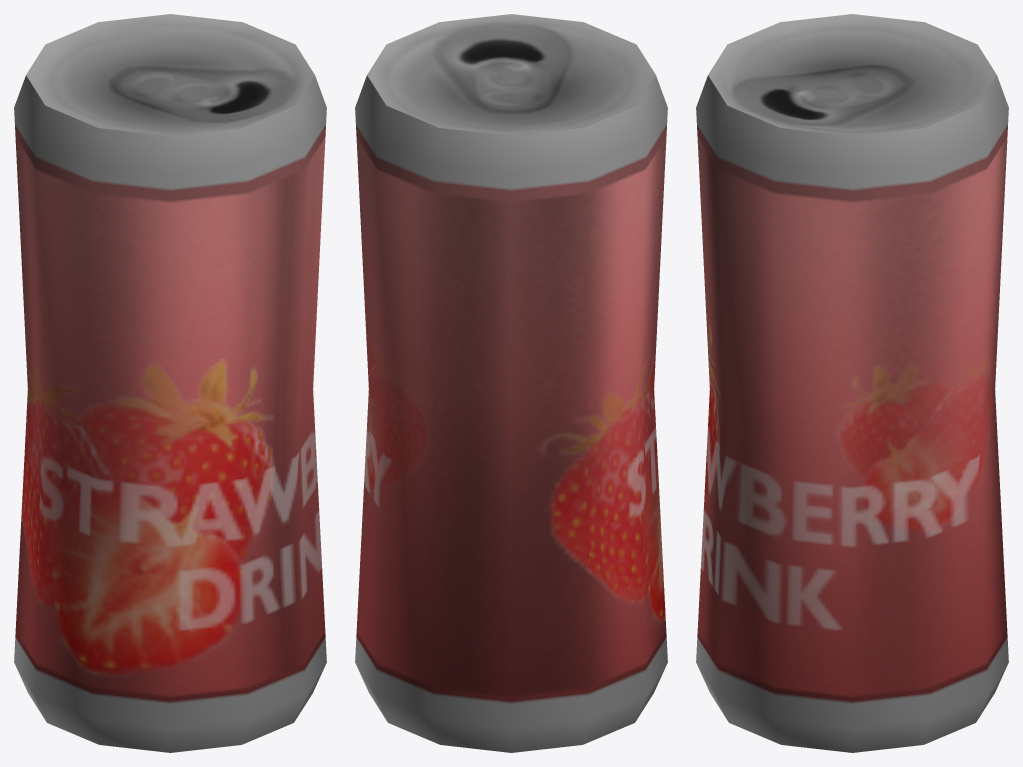
The model's file is Can_4.FBX.
The picture shows the model from 3 angles, left to right: view 1: azimuth 30°, elevation 25°; view 2: azimuth 150°, elevation 25°; view 3: azimuth 270°, elevation 25°; orthographic projection.
Parts seen in each view (by area): view 1: Can_1; view 2: Can_1; view 3: Can_1.
Boxes of the visible parts, box(x1,y1,x2,y2) form: Can_1: box(14, 14, 326, 752); Can_1: box(355, 14, 667, 752); Can_1: box(696, 14, 1008, 752).
Size of the model in its own units: 194 by 423 by 194.
Materials: 1 (1 with a texture image).
